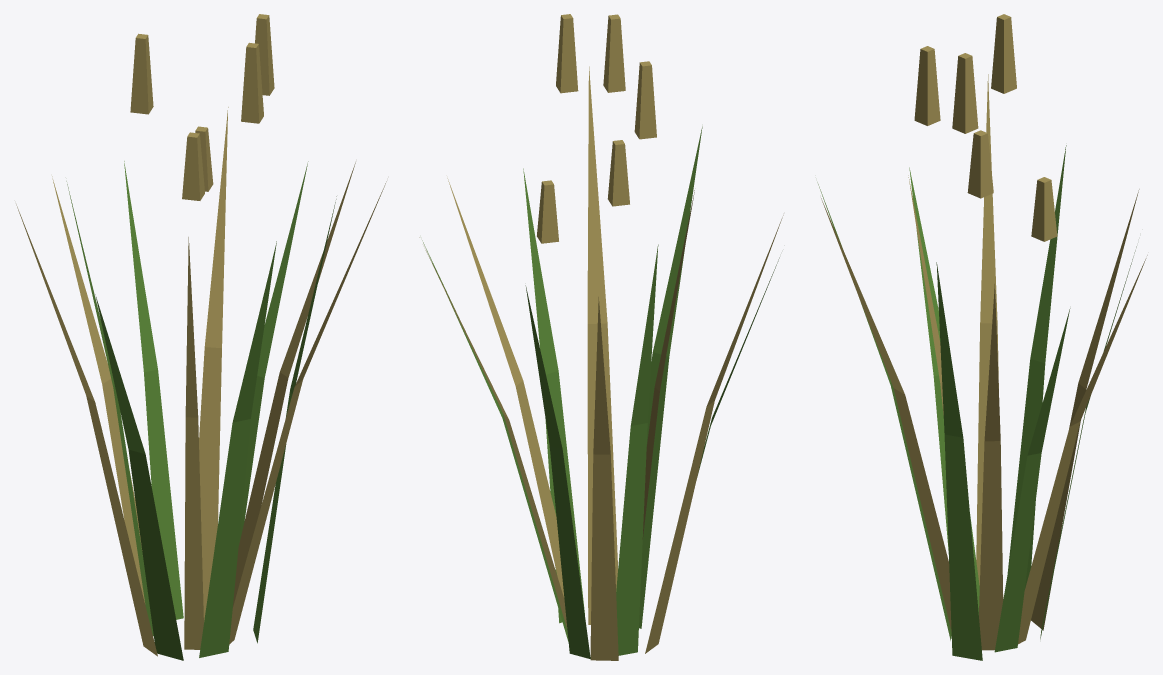
3 renders of one model, left to right at view 1: azimuth 30°, elevation 25°; view 2: azimuth 150°, elevation 25°; view 3: azimuth 270°, elevation 25°, orthographic. The views are drawn at different scales.
Visible parts, largest first — view 1: 草_10; view 2: 草_10; view 3: 草_10.
Part boxes in pixels (<box>): 草_10: <box>16,14,386,660</box>; 草_10: <box>419,14,783,660</box>; 草_10: <box>817,14,1147,660</box>.
Size of the model in its own units: 0.6589 by 1.13 by 0.563.
